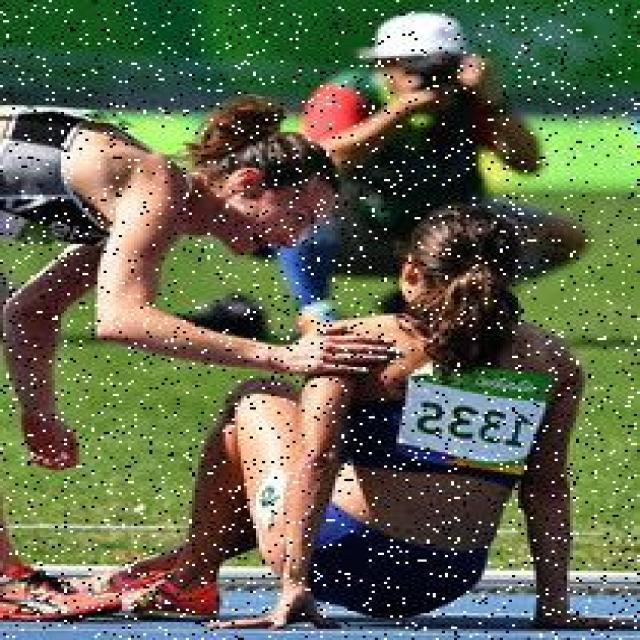fall: (144, 226, 600, 620)
